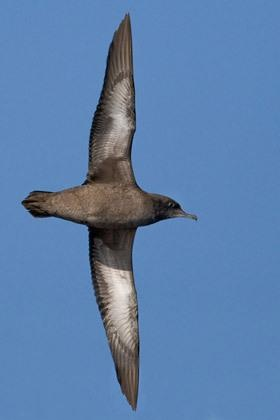bird: (18, 9, 197, 411)
